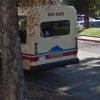Bus: (20, 4, 82, 72)
